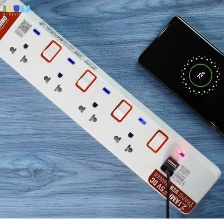phone: (133, 11, 224, 148)
three_eye_plug: (0, 0, 223, 216)
